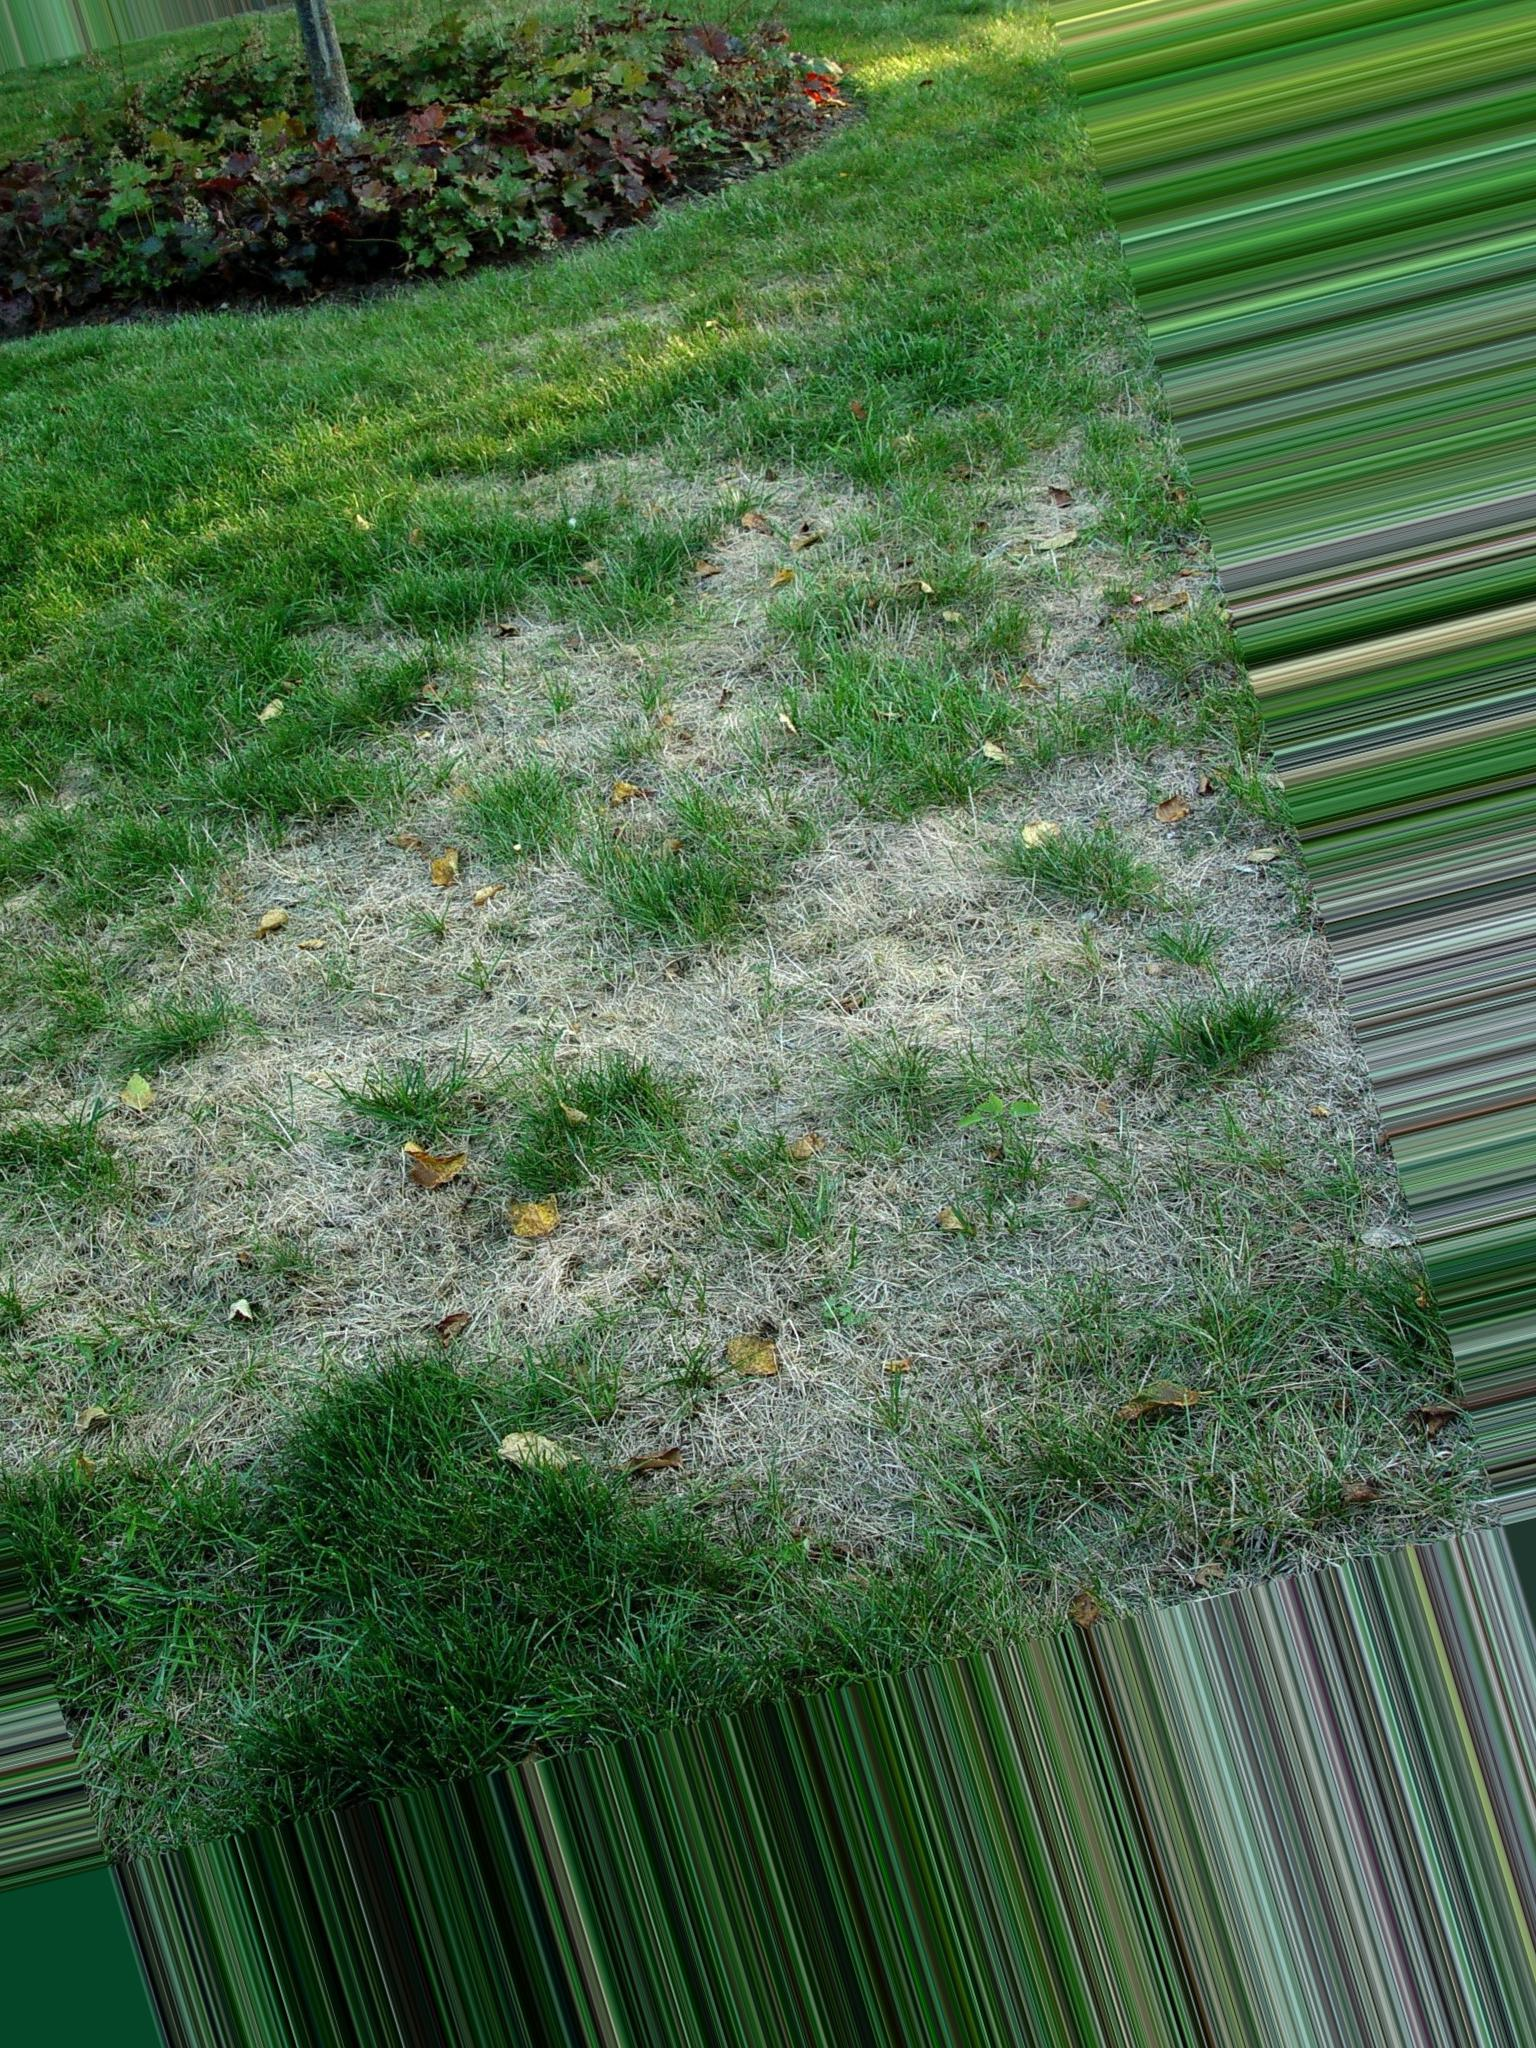patch: (652, 993, 904, 1100), (276, 887, 434, 1029), (879, 872, 1055, 969), (520, 648, 652, 772), (682, 639, 813, 760), (194, 1076, 303, 1214), (952, 1269, 1049, 1356), (303, 1301, 437, 1355), (794, 1348, 862, 1445), (487, 1263, 591, 1311), (1104, 1226, 1152, 1245)
